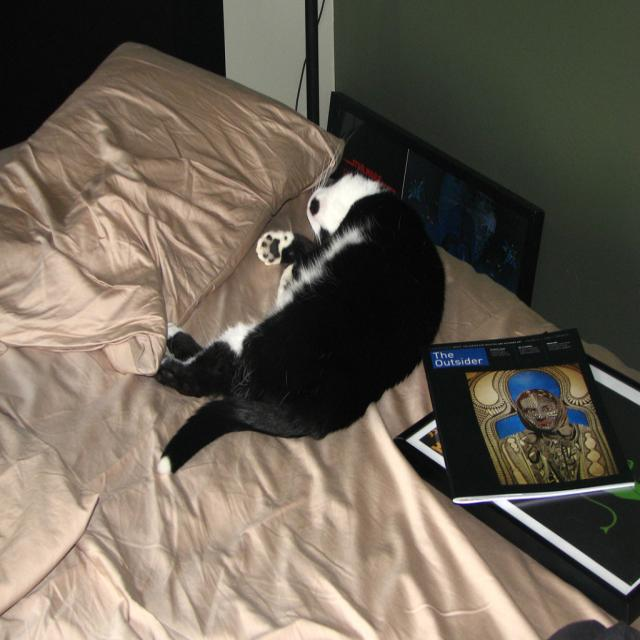Cat: (148, 128, 446, 475)
